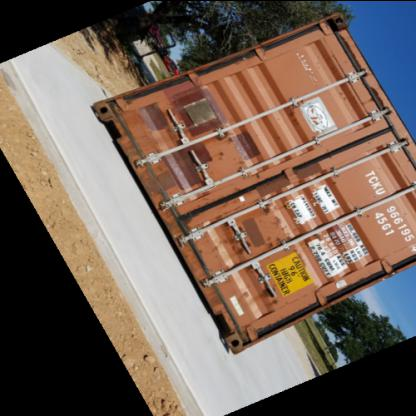Damage: (206, 233, 250, 262), (260, 203, 284, 255), (236, 289, 288, 311), (212, 129, 240, 164), (366, 85, 390, 115)
